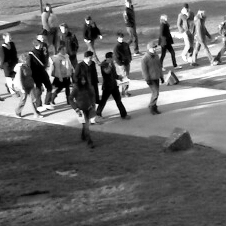person: (96, 52, 132, 120), (67, 73, 96, 149), (13, 52, 44, 119), (27, 39, 53, 109), (141, 42, 164, 115), (158, 14, 182, 71), (74, 51, 100, 103), (112, 32, 132, 98), (192, 9, 215, 66), (52, 42, 71, 105), (1, 32, 18, 97), (122, 1, 141, 56), (57, 23, 79, 69), (177, 3, 194, 62), (83, 16, 102, 66), (41, 3, 57, 39), (215, 15, 226, 64), (35, 29, 55, 53)
